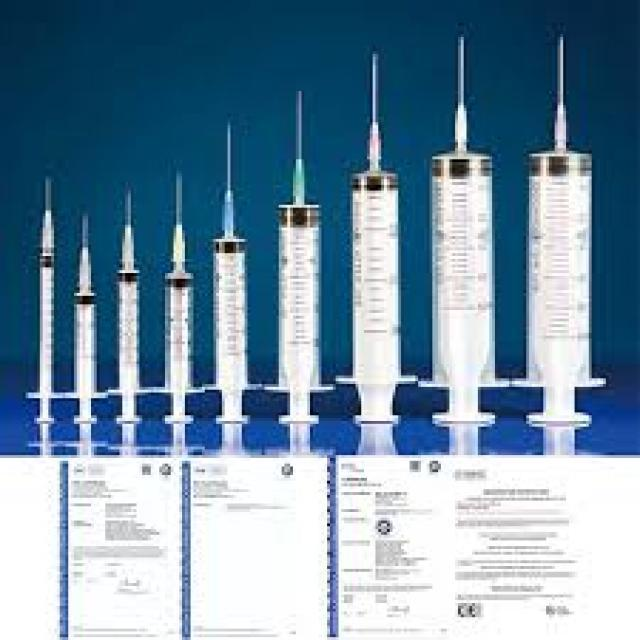syringe: (429, 7, 607, 440)
